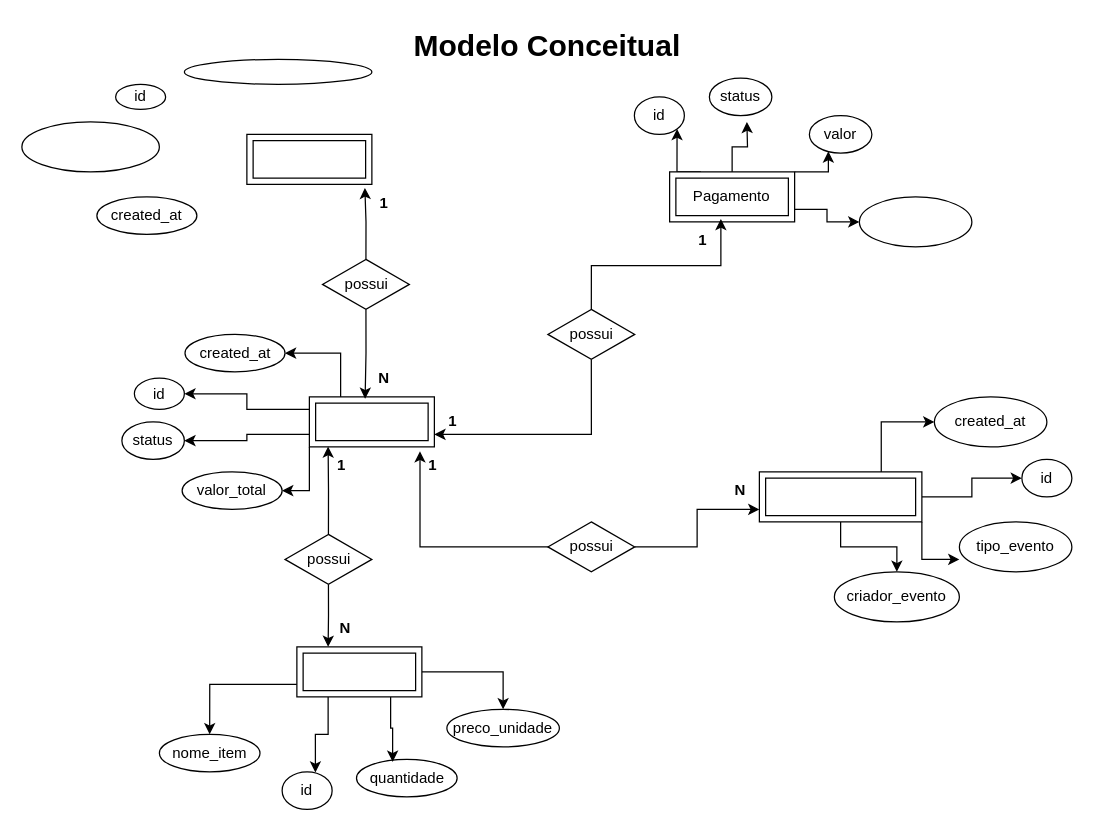
The diagram is 1094 pixels wide and 831 high, and some of its shapes have lost their labels. The shapes that lost their labels are listed below. From the top down, each one's centre as x and y in pixels, then its label:
At [277,71]: "email ou outro login".
At [90,146]: "password_hash".
At [309,158]: "Usuario".
At [915,221]: "processed_at".
At [371,421]: "Pedidos".
At [840,496]: "odem_dos_eventos".
At [359,671]: "items_pedido".
